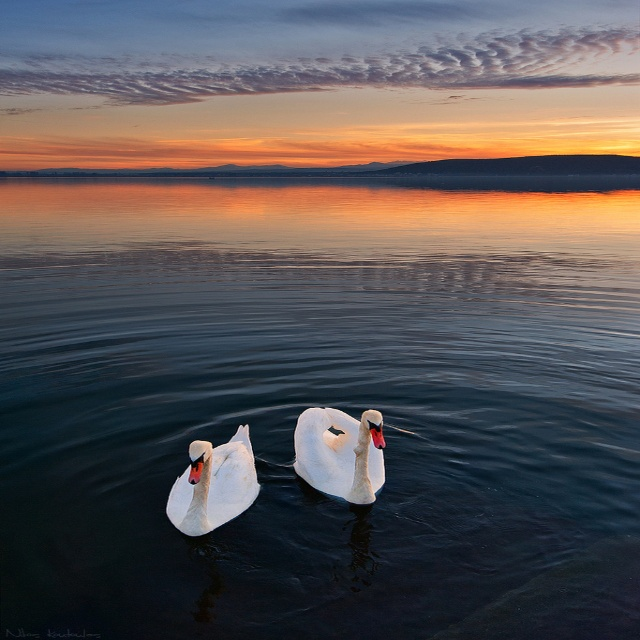Duck: (167, 422, 266, 538), (278, 407, 385, 511)
